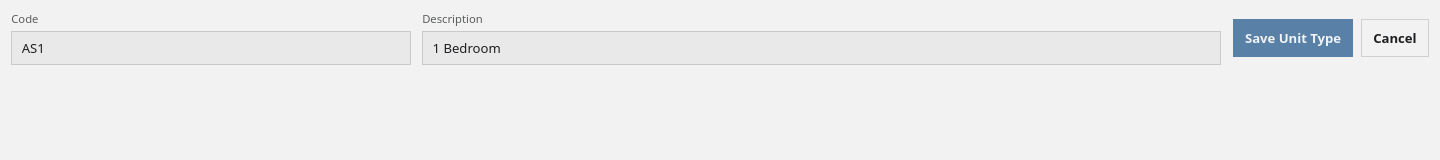
Test: edits an existing description, can clear it, and reports a taken code on the field
Clear the field labelled "Description" at x=822, y=48, box [422,31,1221,65]
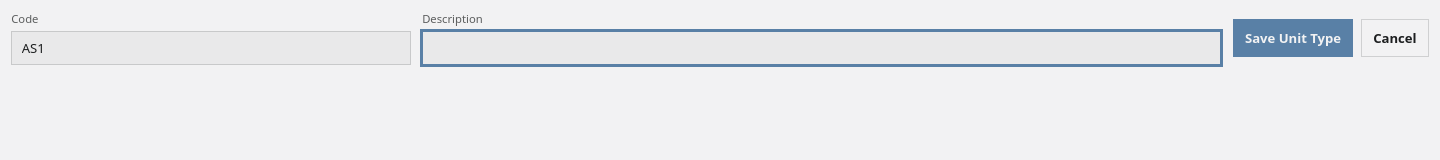
Click the button "Save Unit Type" at x=1293, y=38, box [1233,19,1353,57]
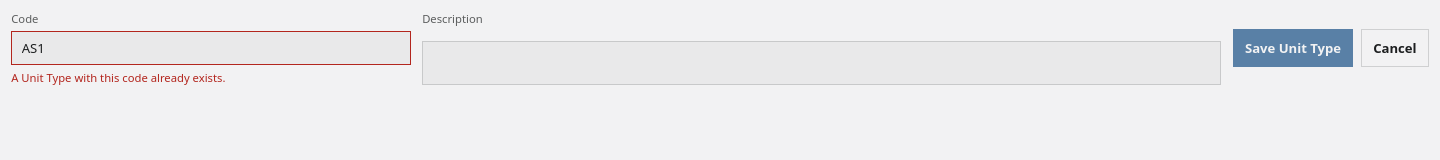
Expected: the text "A Unit Type with this code already exists." is shown, [11,70,226,85]
